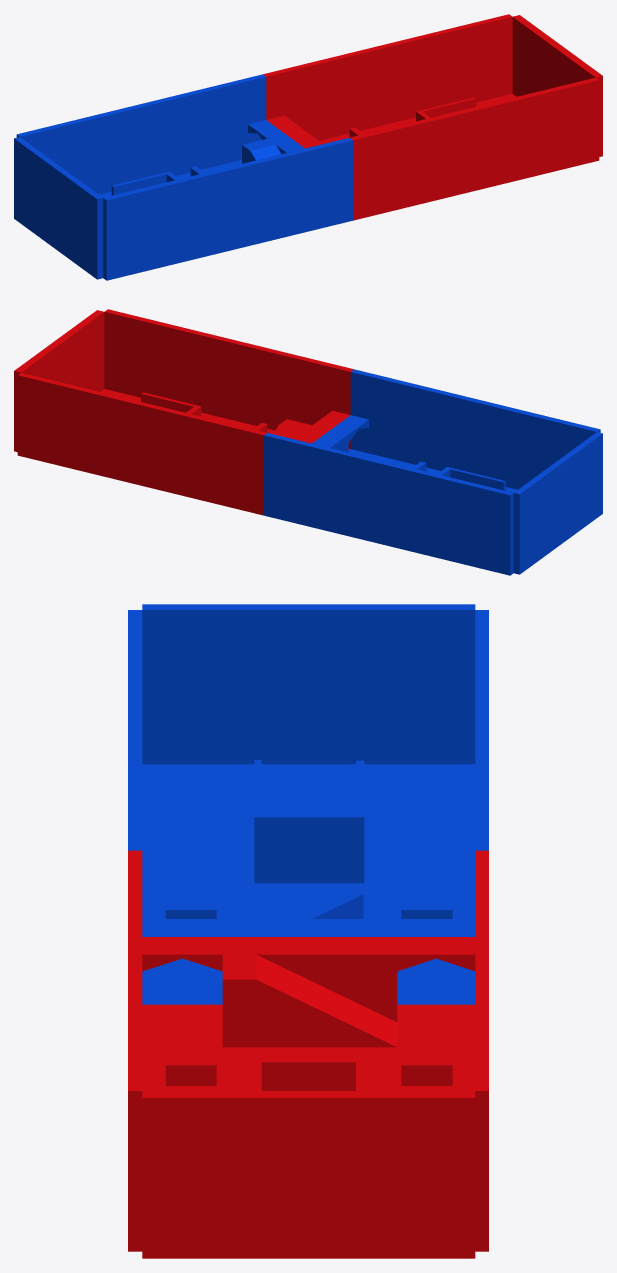
Rendered from CTF_Map.fbx.
3 views of the same model, one above another, from view 1: azimuth 30°, elevation 25°; view 2: azimuth 150°, elevation 25°; view 3: azimuth 270°, elevation 25° (orthographic). The views are drawn at different scales.
Visible parts, largest first — view 1: Cube, Cube.001, Cube.008, Cube.003, Cube.009; view 2: Cube, Cube.001, Cube.008, Cube.009, Cube.002; view 3: Cube, Cube.001, Cube.002, Cube.008, Cube.009, Cube.003, Cube.006, Cube.007.
Part boxes in pixels (x1,y1,x2,y2): Cube: (14, 14, 602, 280); Cube.001: (248, 115, 322, 154); Cube.008: (111, 171, 179, 195); Cube.003: (242, 138, 280, 163); Cube.009: (416, 97, 476, 121); Cube: (14, 309, 602, 575); Cube.001: (294, 410, 368, 452); Cube.008: (437, 467, 505, 490); Cube.009: (141, 392, 201, 416); Cube.002: (273, 419, 311, 438); Cube: (128, 604, 488, 1258); Cube.001: (142, 919, 475, 1021); Cube.002: (222, 954, 397, 1047); Cube.008: (254, 760, 364, 883); Cube.009: (253, 1057, 363, 1090); Cube.003: (313, 894, 397, 919); Cube.006: (165, 1060, 216, 1085); Cube.007: (401, 1060, 452, 1085).
Size of the model in its own units: 18322 by 2782 by 5660.
